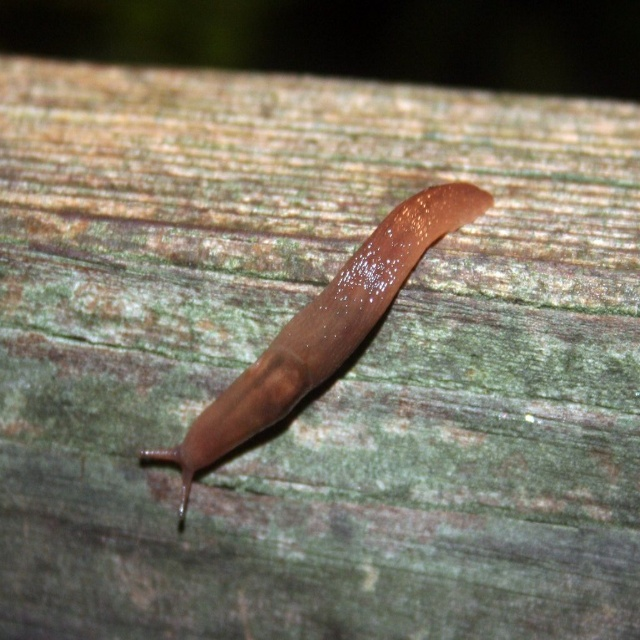Snail: (135, 181, 500, 523)
